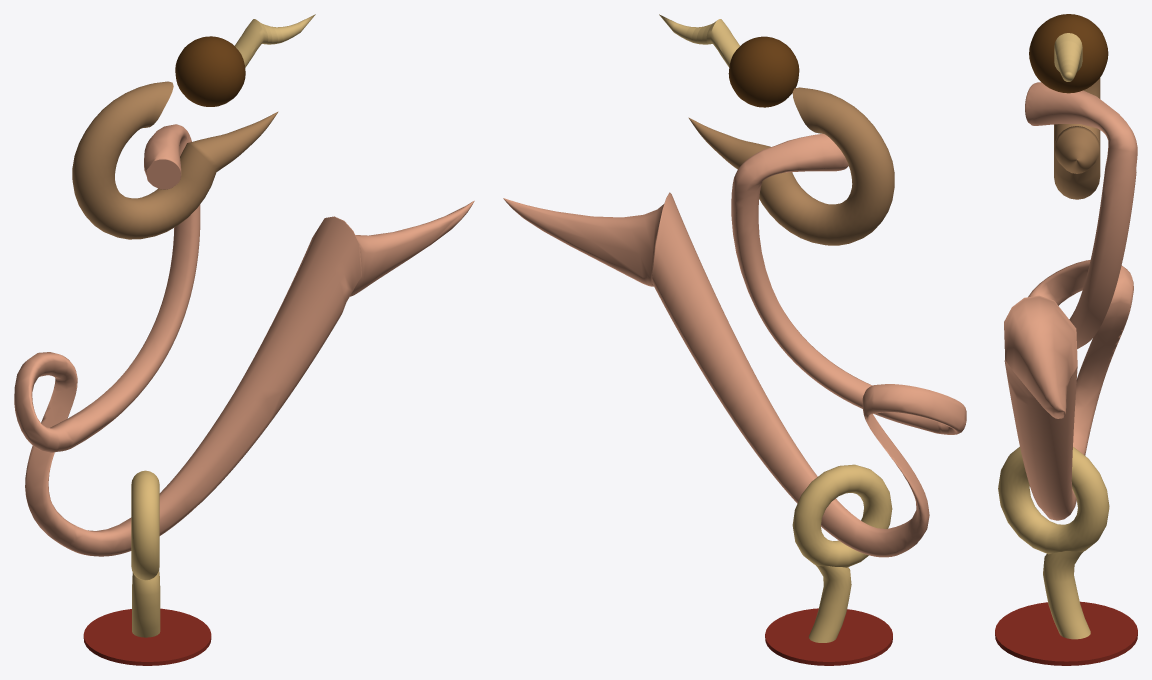
File: structure.fbx
3 views of the same model, side by side, from view 1: azimuth 30°, elevation 25°; view 2: azimuth 150°, elevation 25°; view 3: azimuth 270°, elevation 25° (orthographic). The views are drawn at different scales.
Visible parts, largest first — view 1: wonky_piece, small_wonky_piece, floor_piece, pSphere1, pTorus1, pCylinder1, pCone5; view 2: wonky_piece, small_wonky_piece, pTorus1, floor_piece, pSphere1, pCylinder1, pCone5; view 3: wonky_piece, pTorus1, floor_piece, pSphere1, small_wonky_piece, pCylinder1, pCone5.
Boxes of the visible parts, <box> form: wonky_piece: <box>14,124,474,556</box>; small_wonky_piece: <box>72,81,278,239</box>; floor_piece: <box>83,608,211,665</box>; pSphere1: <box>175,36,245,106</box>; pTorus1: <box>131,470,159,580</box>; pCylinder1: <box>132,570,160,637</box>; pCone5: <box>234,14,315,67</box>; wonky_piece: <box>503,133,966,557</box>; small_wonky_piece: <box>688,87,894,245</box>; pTorus1: <box>792,464,892,567</box>; floor_piece: <box>765,608,892,665</box>; pSphere1: <box>728,36,799,107</box>; pCylinder1: <box>808,565,851,642</box>; pCone5: <box>659,14,739,67</box>; wonky_piece: <box>1004,82,1137,520</box>; pTorus1: <box>998,446,1109,554</box>; floor_piece: <box>995,601,1137,665</box>; pSphere1: <box>1029,14,1108,93</box>; small_wonky_piece: <box>1054,78,1100,199</box>; pCylinder1: <box>1043,551,1090,639</box>; pCone5: <box>1054,33,1082,81</box>.
Size of the model in its own units: 18.57 by 23.07 by 4.51.
